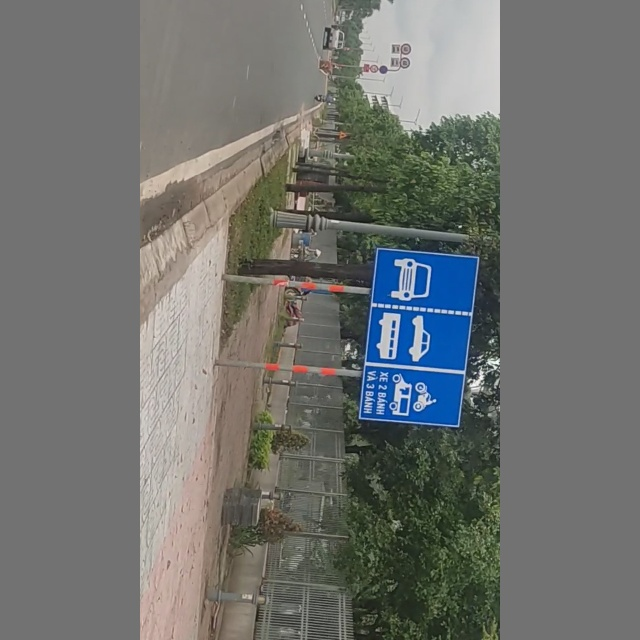R.415a: (357, 243, 475, 431)
